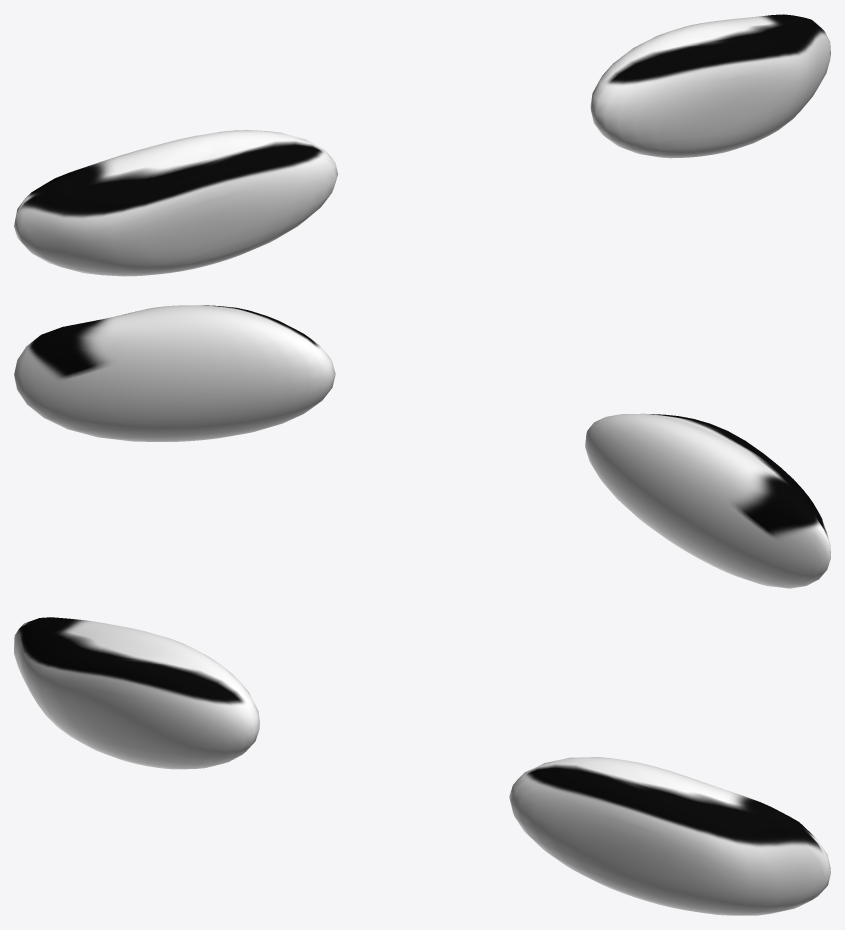
Rendered from Zombie.glb.
3 renders of one model, top to bottom at view 1: azimuth 30°, elevation 25°; view 2: azimuth 150°, elevation 25°; view 3: azimuth 330°, elevation 25°, orthographic.
Parts seen in each view (by area): view 1: Sphere.002; view 2: Sphere.002; view 3: Sphere.002.
Boxes of the visible parts, x1,y1,x2,y2 form: Sphere.002: [14, 14, 830, 276]; Sphere.002: [14, 305, 830, 588]; Sphere.002: [14, 617, 830, 915].
Size of the model in its own units: 0.3777 by 0.0623 by 0.0485.
Materials: 1 (1 with a texture image).
